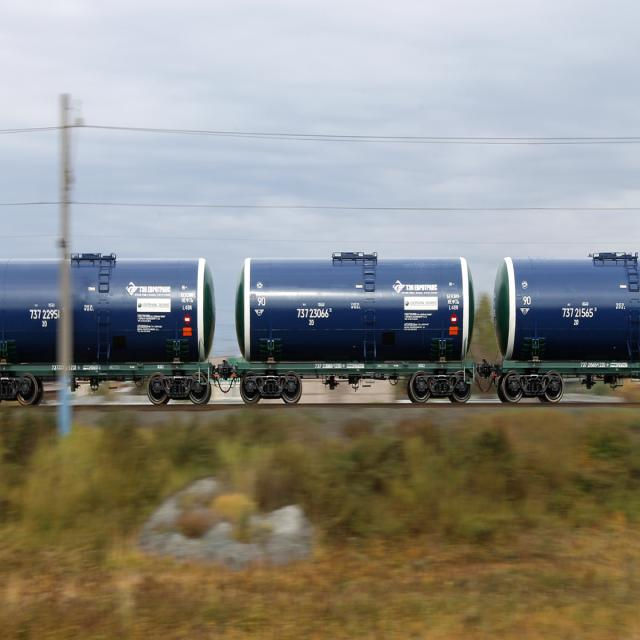tank: (228, 236, 486, 411), (0, 236, 222, 408), (485, 236, 640, 410)
